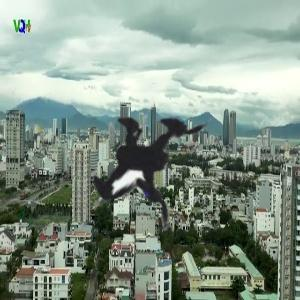drone: (14, 30, 262, 278)
